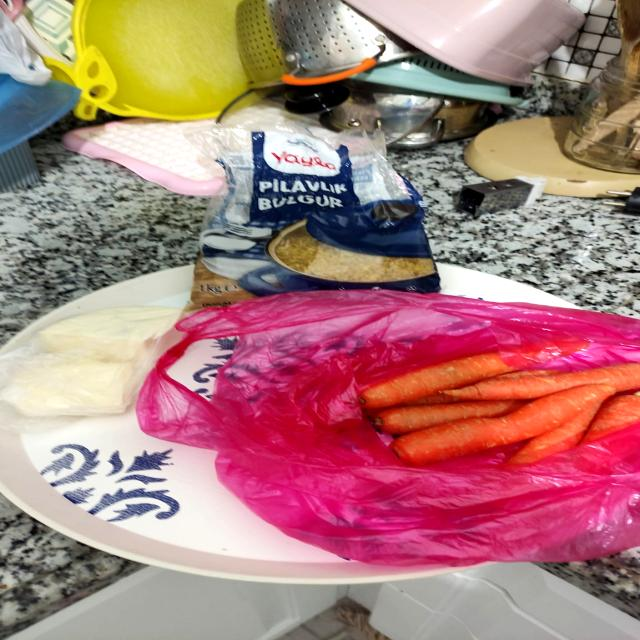bulgur: (202, 124, 438, 307)
carrot: (362, 373, 636, 463), (431, 360, 640, 402)
cheese: (13, 303, 168, 419)
